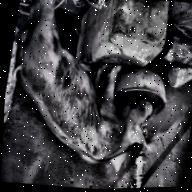boar: (1, 0, 176, 180)
